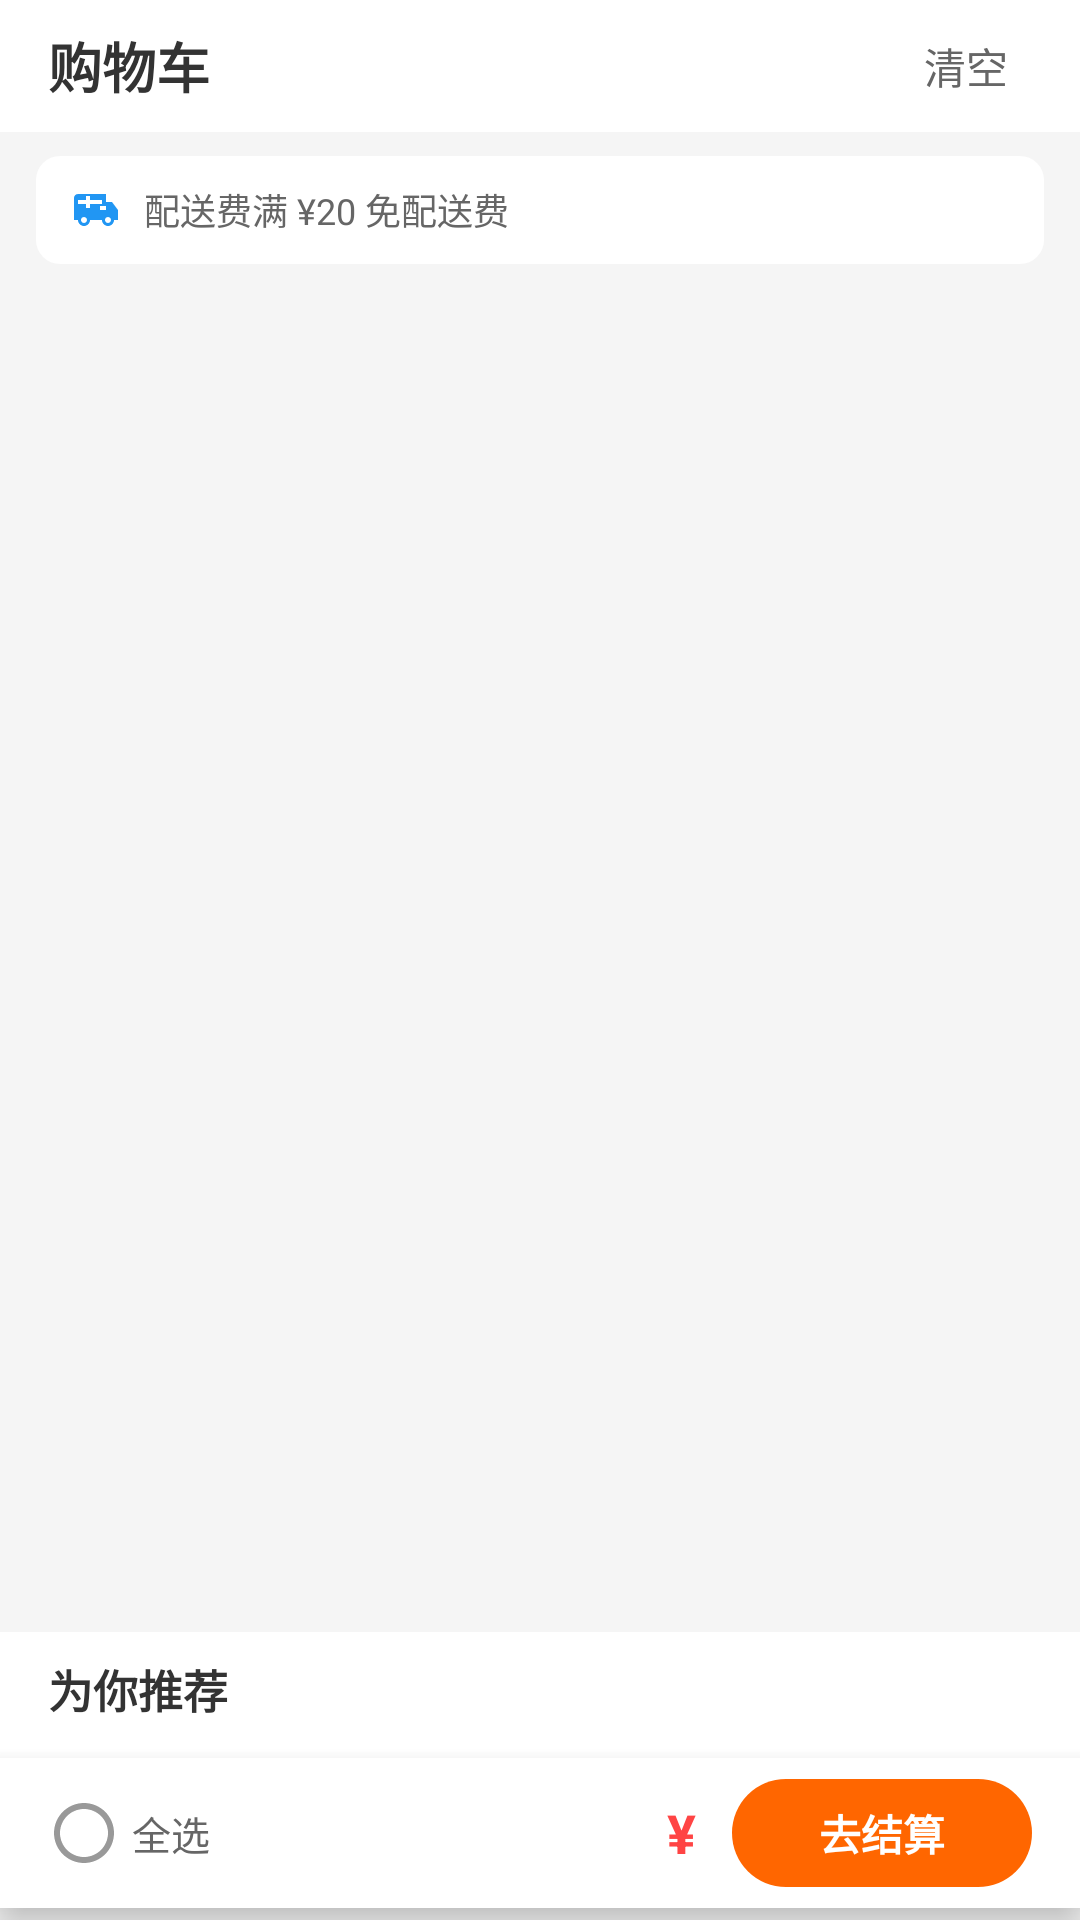

Locate icon controls on the screen. Image size 1080px×1920px, boxes as {"x1": x1, "y1": y1, "x2": x2, "y2": y2}.
checkbox unchecked: {"x1": 54, "y1": 1803, "x2": 114, "y2": 1863}
